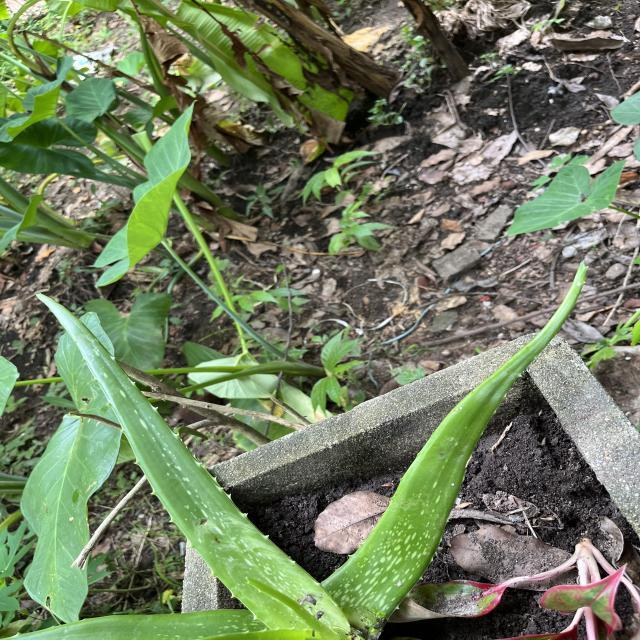Aloe vera: (28, 290, 354, 640), (324, 251, 596, 638)
